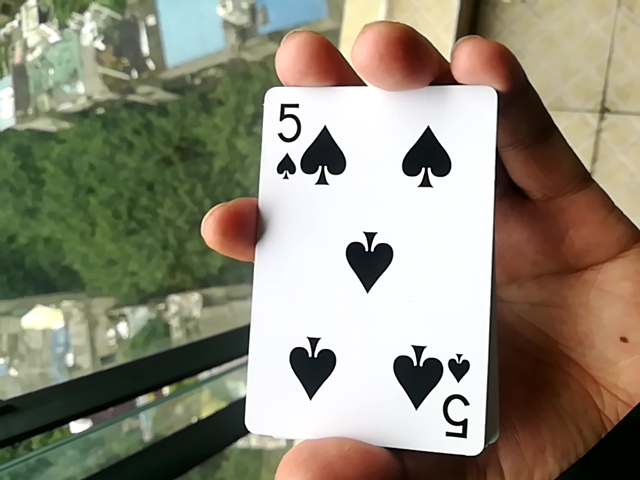ht 5: (235, 85, 486, 456)
